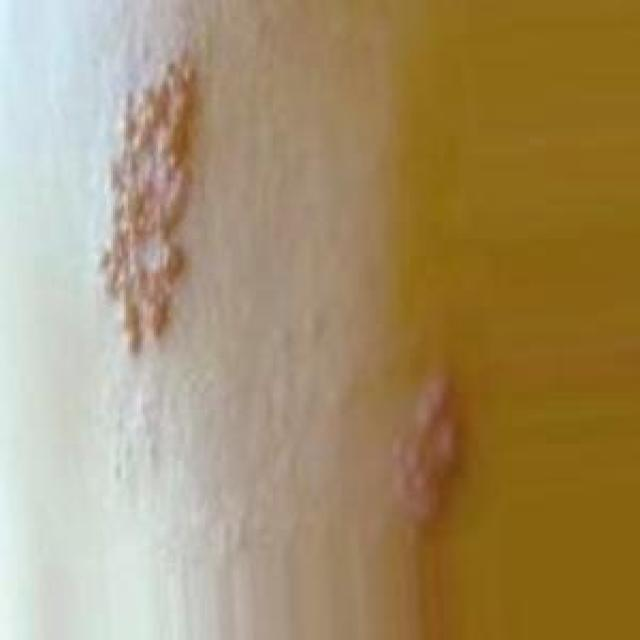Shingles: (98, 48, 200, 360), (389, 376, 457, 536)
